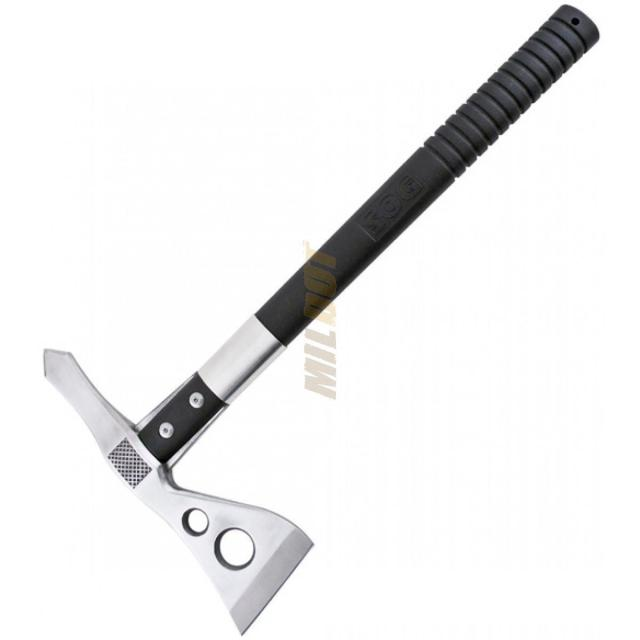Kapak: (18, 21, 531, 588)
